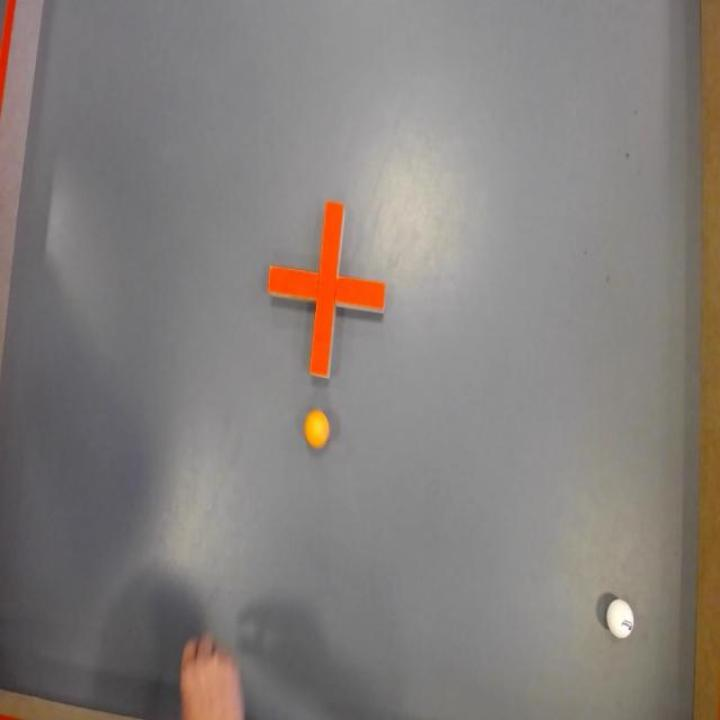orange: (302, 406, 330, 450)
white: (604, 595, 637, 644)
